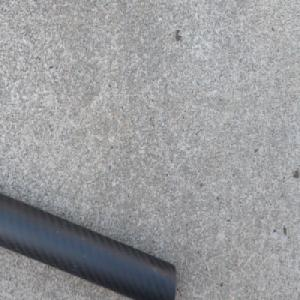LuggagePart: (0, 188, 178, 300)
